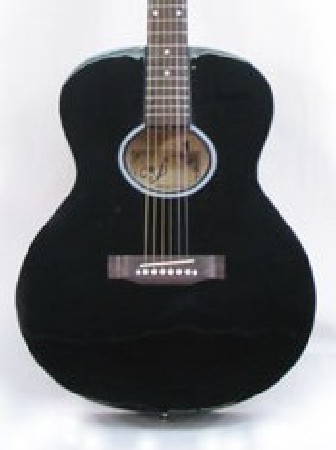guitar: (15, 1, 319, 419)
